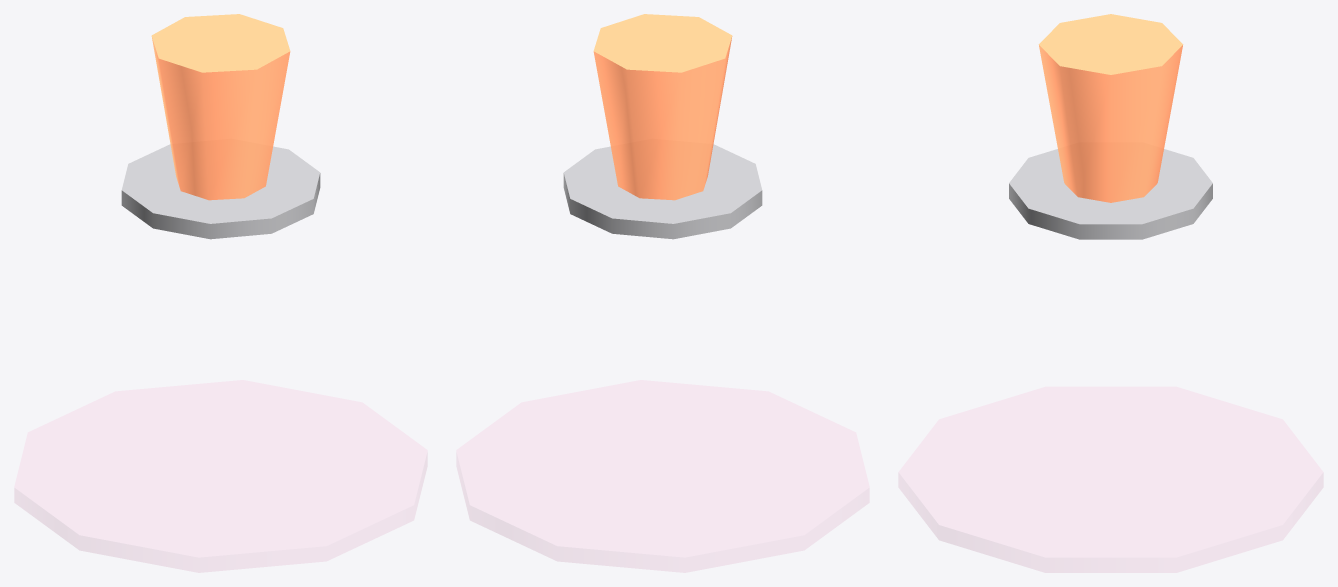
File: cay.glb
3 views of the same model, side by side, from view 1: azimuth 30°, elevation 25°; view 2: azimuth 150°, elevation 25°; view 3: azimuth 270°, elevation 25° (orthographic).
Size of the model in its own units: 0.9511 by 1.15 by 1.
